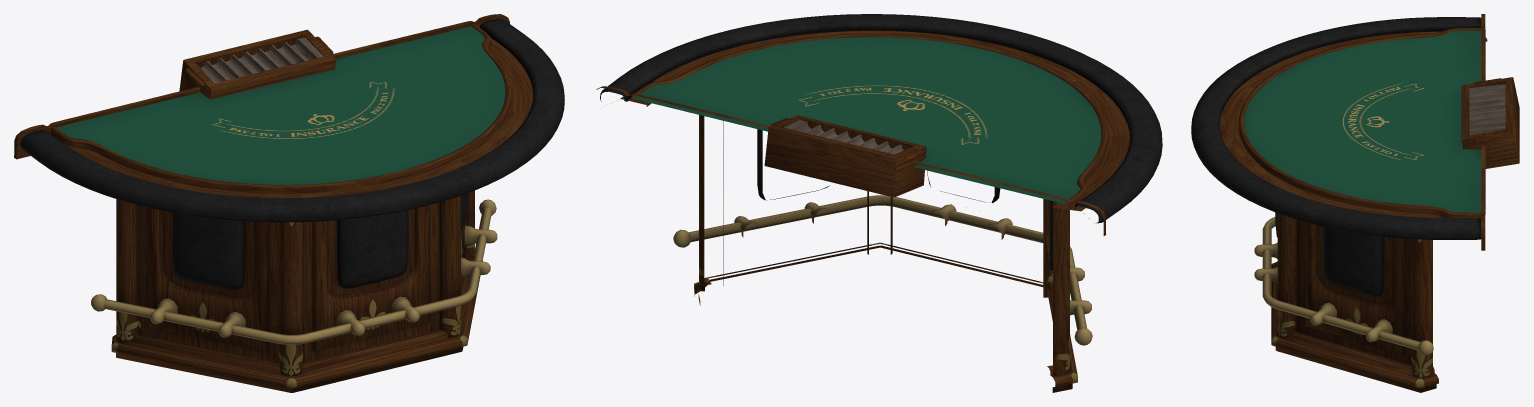
The model's file is table.glb.
The picture shows the model from 3 angles, left to right: view 1: azimuth 30°, elevation 25°; view 2: azimuth 150°, elevation 25°; view 3: azimuth 270°, elevation 25°; orthographic projection. The views are drawn at different scales.
Visible parts, largest first — view 1: Table; view 2: Table; view 3: Table.
Boxes of the visible parts, x1,y1,x2,y2 form: Table: (14, 14, 564, 392); Table: (596, 14, 1162, 392); Table: (1191, 14, 1519, 392).
Bounding box in the file's own units: 272 × 122 × 174.
2 materials, 2 textured.
